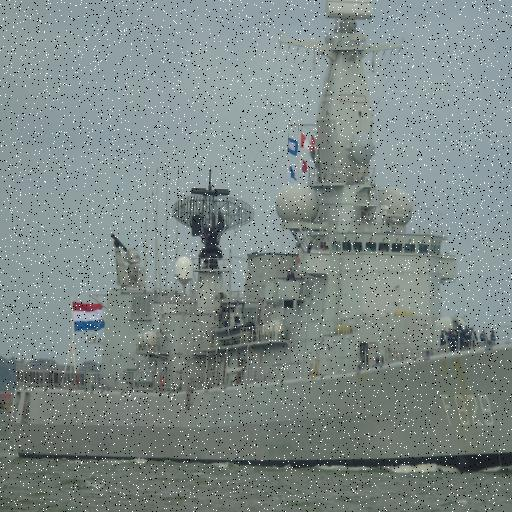Fragata: (9, 1, 512, 464)
